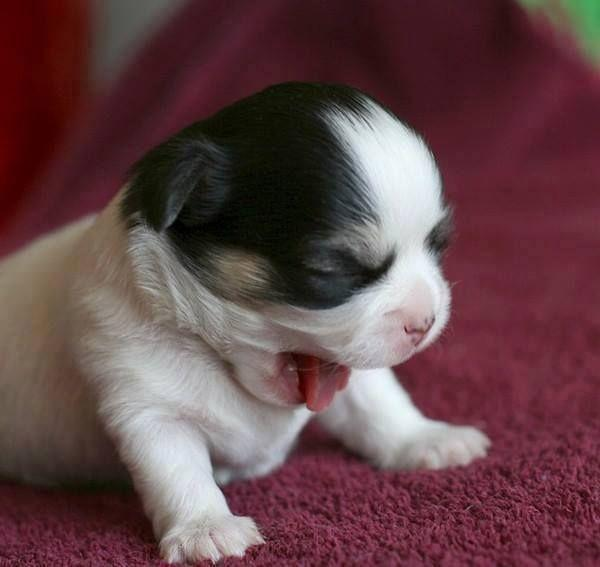puppy-dog: (0, 75, 494, 567)
